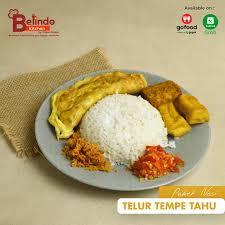buah_sayur_vitA: (142, 156, 167, 177)
kacang_legume: (161, 102, 201, 124), (147, 85, 176, 98)
makanan_berpati: (98, 99, 147, 148)
telur: (74, 75, 132, 92)
